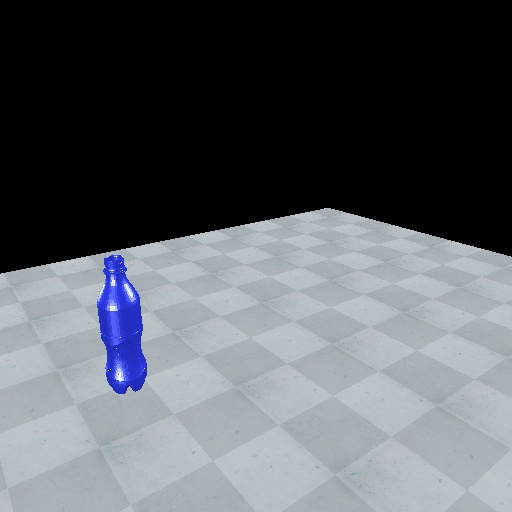bottle: (94, 252, 149, 397)
